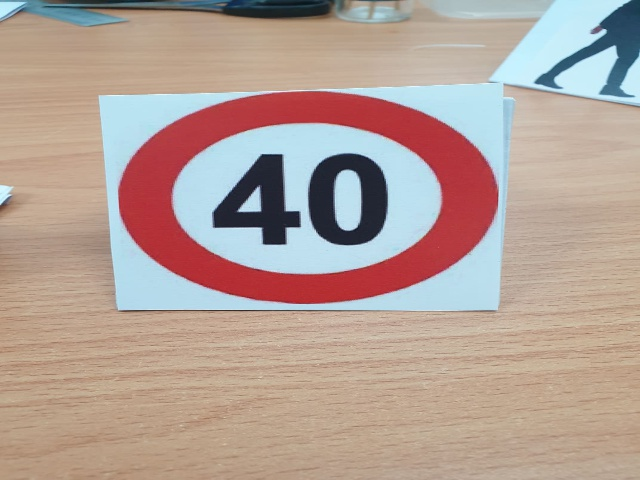Limit 40: (104, 91, 502, 311)
